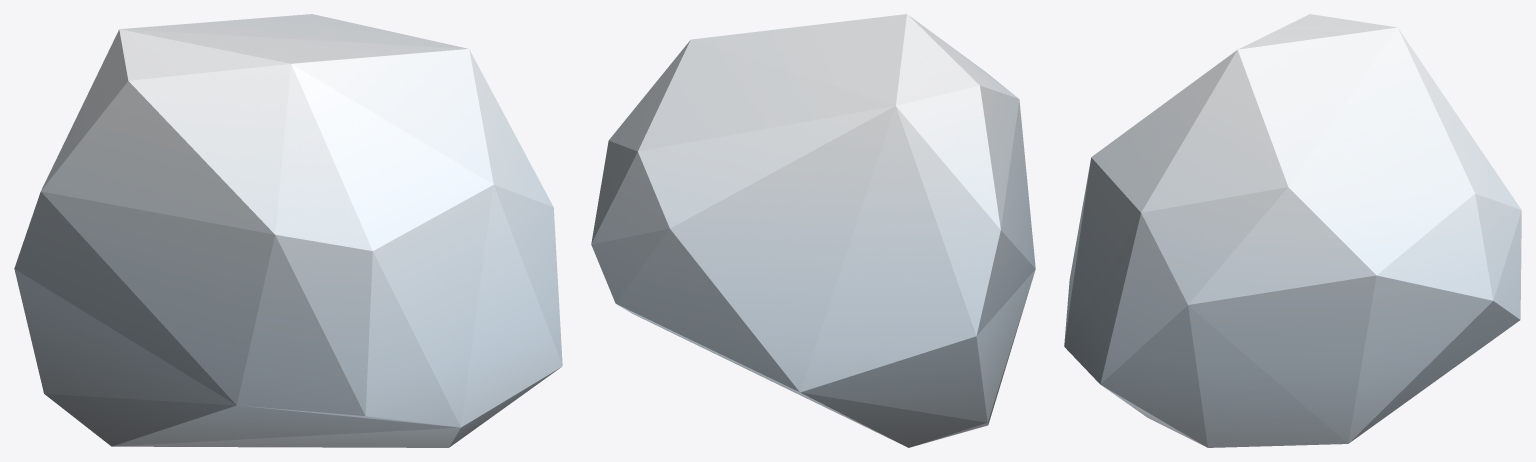
The model's file is Snowy_Stone_006.FBX.
3 renders of one model, left to right at view 1: azimuth 30°, elevation 25°; view 2: azimuth 150°, elevation 25°; view 3: azimuth 270°, elevation 25°, orthographic. The views are drawn at different scales.
Parts seen in each view (by area): view 1: Snowy_Stone_006; view 2: Snowy_Stone_006; view 3: Snowy_Stone_006.
Part boxes in pixels (left/top/right/bottom): Snowy_Stone_006: left=14, top=14, right=562, bottom=447; Snowy_Stone_006: left=591, top=14, right=1035, bottom=447; Snowy_Stone_006: left=1064, top=14, right=1521, bottom=447.
Bounding box in the file's own units: 77.62 × 72.19 × 83.77.
Materials: 1 (1 with a texture image).
